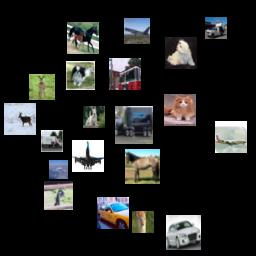airplane: (215, 121, 247, 153), (72, 140, 104, 172), (124, 18, 150, 44), (49, 160, 68, 179)
automobile: (166, 215, 201, 250), (97, 197, 129, 229)
bird: (44, 181, 73, 210)
cat: (164, 94, 196, 126)
deer: (4, 103, 36, 135), (29, 74, 55, 100), (132, 211, 154, 233)
dog: (165, 37, 197, 69), (66, 61, 95, 90), (83, 106, 105, 128)
truck: (115, 106, 153, 144), (109, 58, 141, 90), (41, 130, 63, 152), (205, 17, 227, 39)
